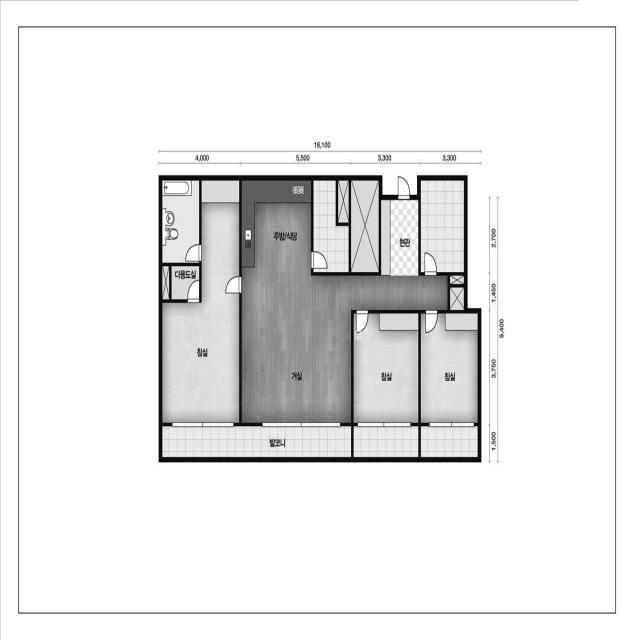space_balconi: (162, 426, 351, 458), (421, 180, 464, 272), (313, 181, 349, 272), (353, 426, 418, 457), (421, 426, 478, 457)
space_bedroom: (163, 181, 239, 423), (354, 314, 418, 423), (421, 314, 478, 423)
space_front: (381, 200, 418, 276)
space_kitchen: (242, 181, 311, 276)
space_living_room: (242, 276, 447, 423)
space_multipurpose_space: (172, 266, 199, 299)
space_other: (351, 180, 379, 272), (338, 181, 349, 223), (450, 287, 464, 310), (162, 266, 169, 299), (450, 276, 464, 284)
space_toilet: (162, 181, 199, 263)
